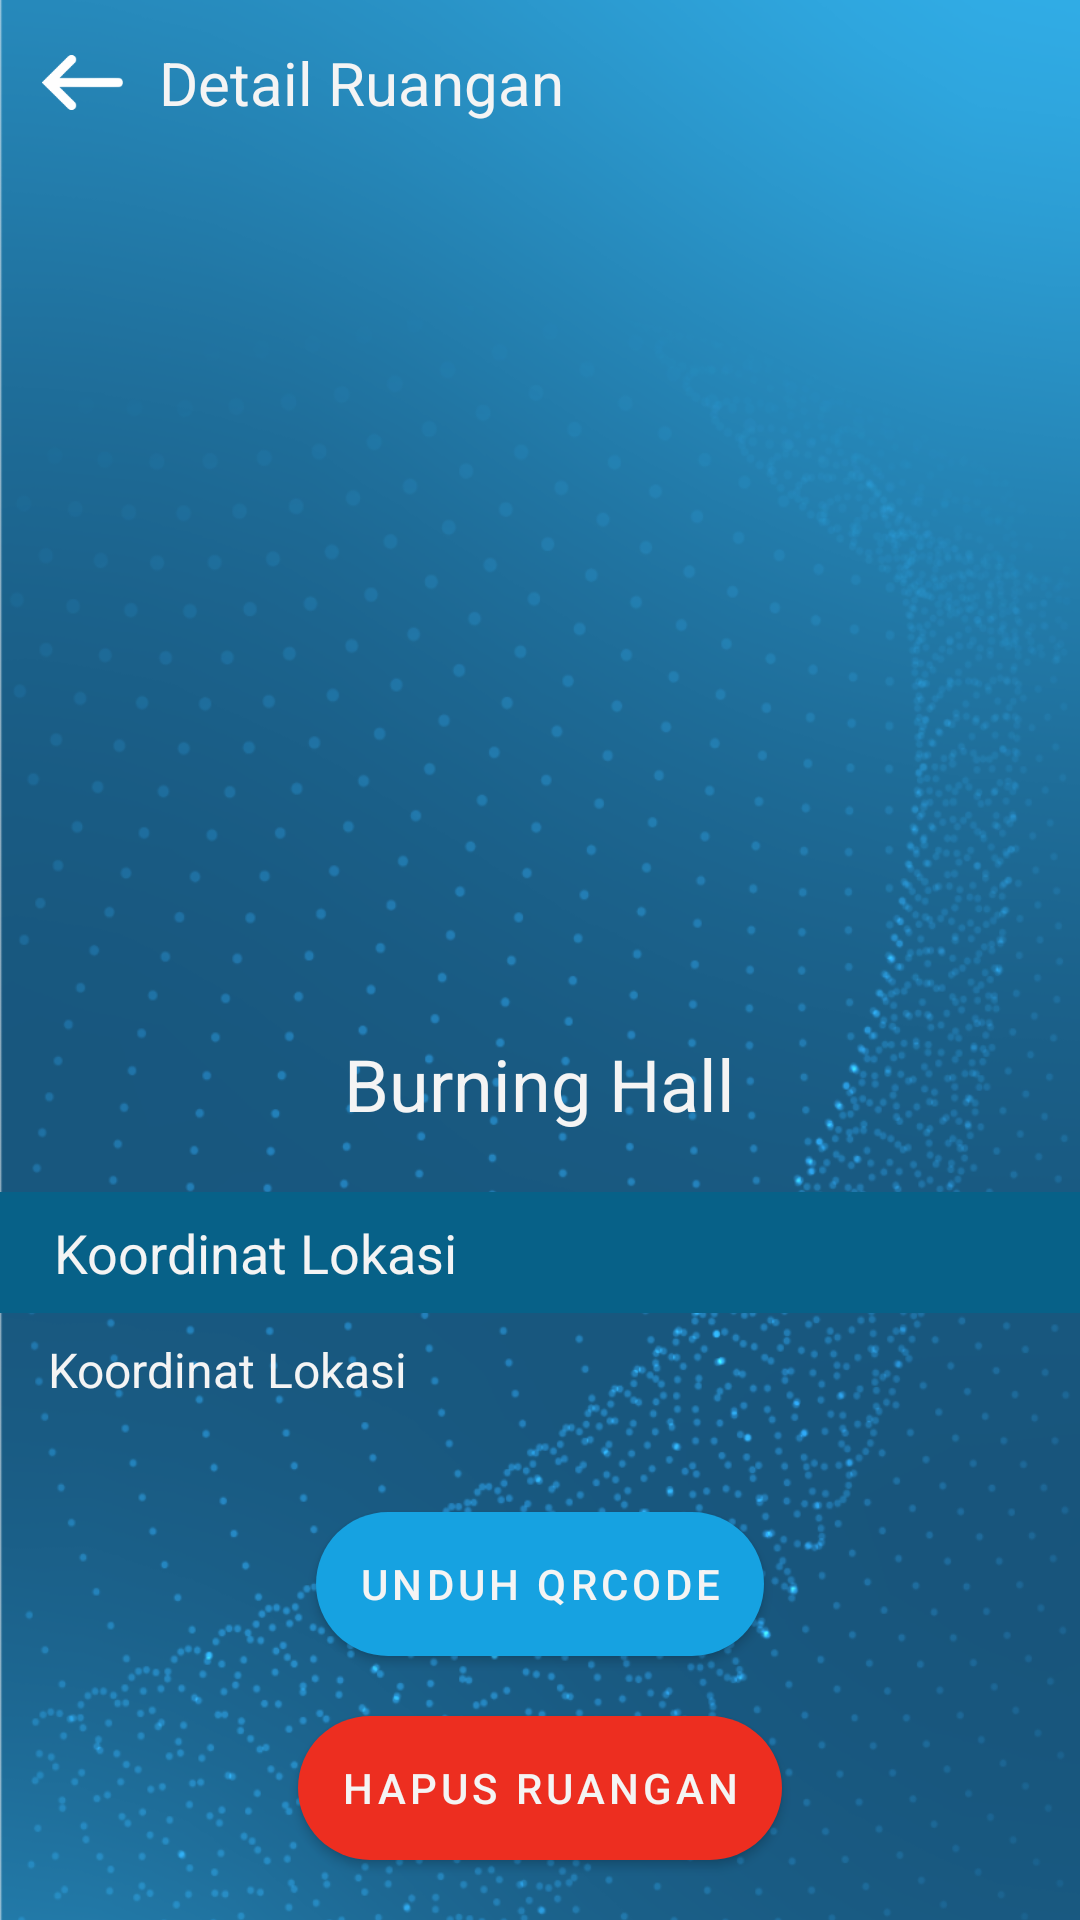

Locate icon controls on the screen. Image size 1080 × 1920, boxes as (x1, y1, x2, y2).
back: (42, 55, 123, 110)
